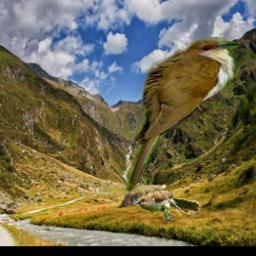Cuckoo: (124, 37, 239, 192), (134, 191, 201, 223)
